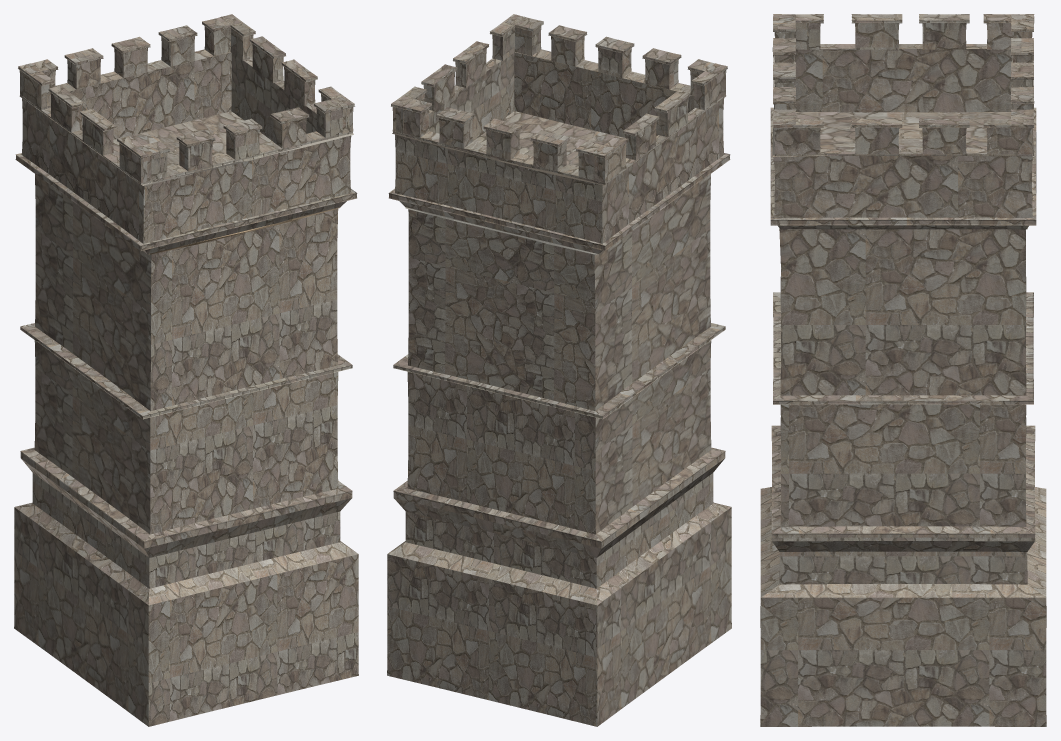
Rendered from towers.obj.
3 renders of one model, left to right at view 1: azimuth 30°, elevation 25°; view 2: azimuth 150°, elevation 25°; view 3: azimuth 270°, elevation 25°, orthographic. The views are drawn at different scales.
Visible parts, largest first — view 1: Cube_Cube_body, Cube_Cube_extras; view 2: Cube_Cube_body, Cube_Cube_extras; view 3: Cube_Cube_body, Cube_Cube_extras.
Boxes of the visible parts, <box> form: Cube_Cube_body: <box>14,26,358,726</box>; Cube_Cube_extras: <box>15,14,357,557</box>; Cube_Cube_body: <box>387,26,731,726</box>; Cube_Cube_extras: <box>388,14,730,557</box>; Cube_Cube_body: <box>760,23,1046,726</box>; Cube_Cube_extras: <box>770,14,1036,551</box>.
Size of the model in its own units: 3.98 by 9.95 by 4.28.
2 materials, 2 textured.
